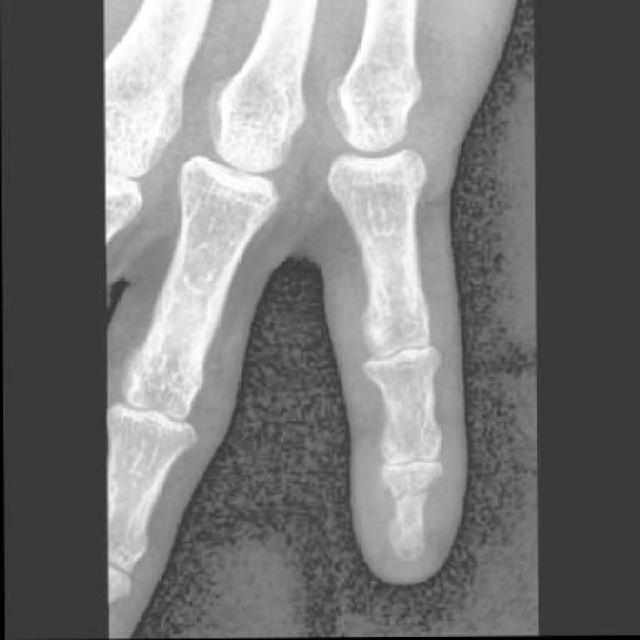Fracture: (392, 482, 431, 510)
